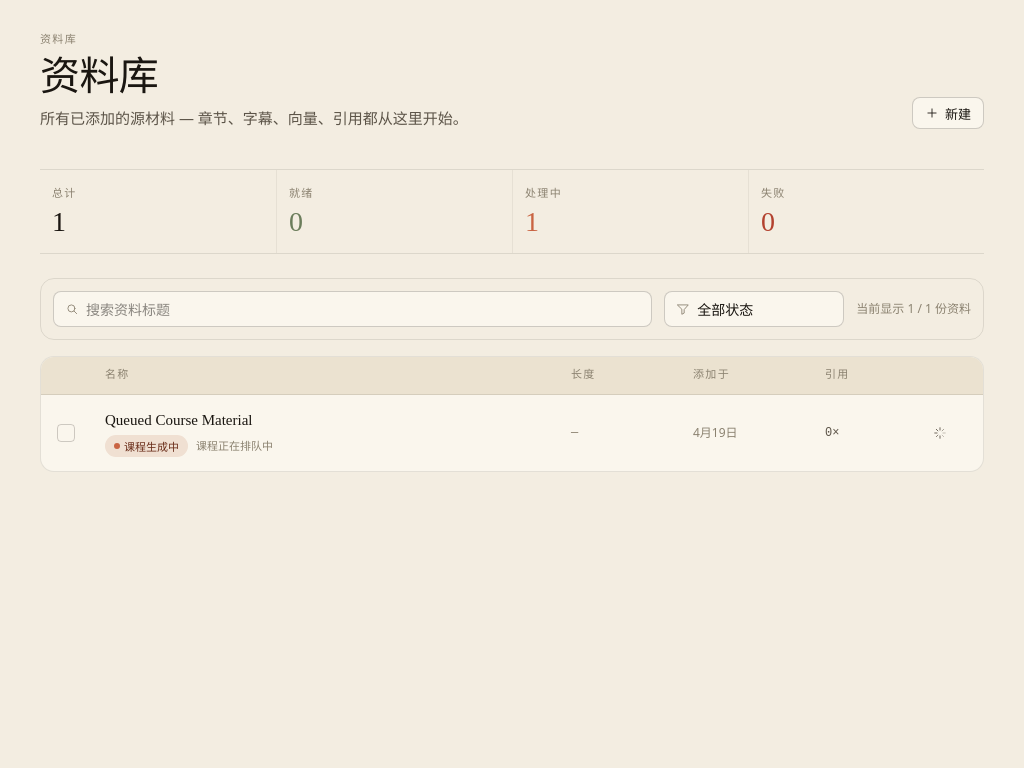
/sources page › lets active course generation be cancelled from the source drawer
Click the text "Queued Course Material" at (179, 420), box 105,412 -> 252,428
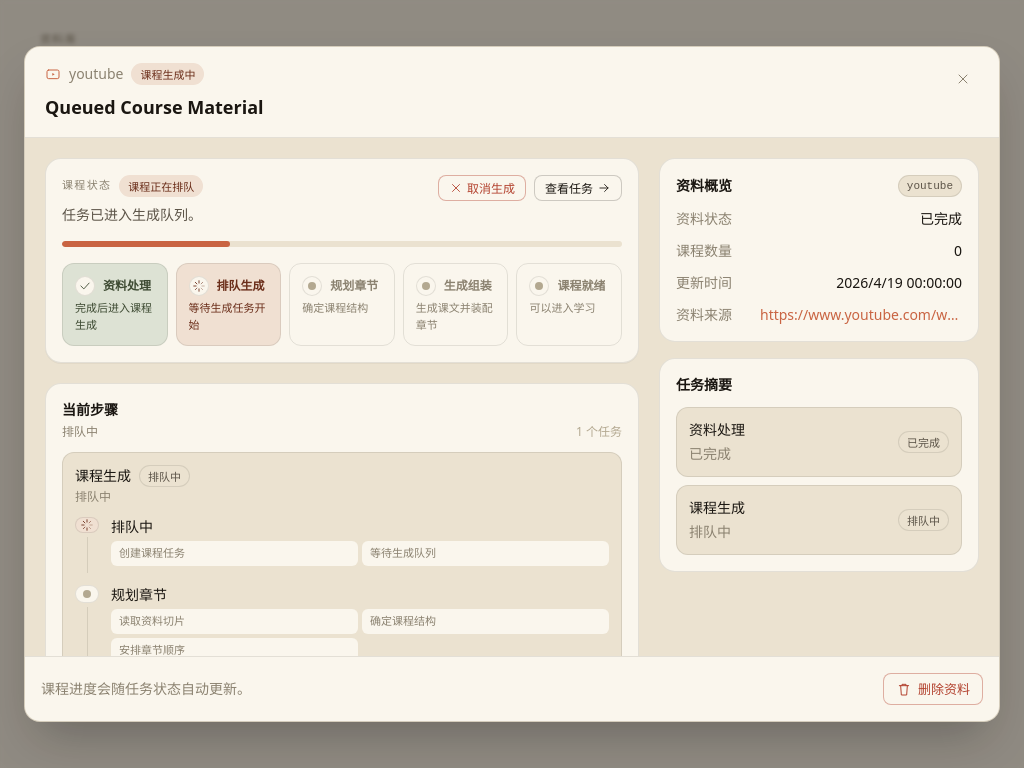
Result: the button with aria-label "取消课程生成" is shown
Result: the text "排队生成" is shown at 217,278 -> 265,294
Result: the text "规划章节" next to "排队生成" is shown at 330,277 -> 378,294
Click the button with aria-label "取消课程生成" at (482, 188), box 438,175 -> 526,201
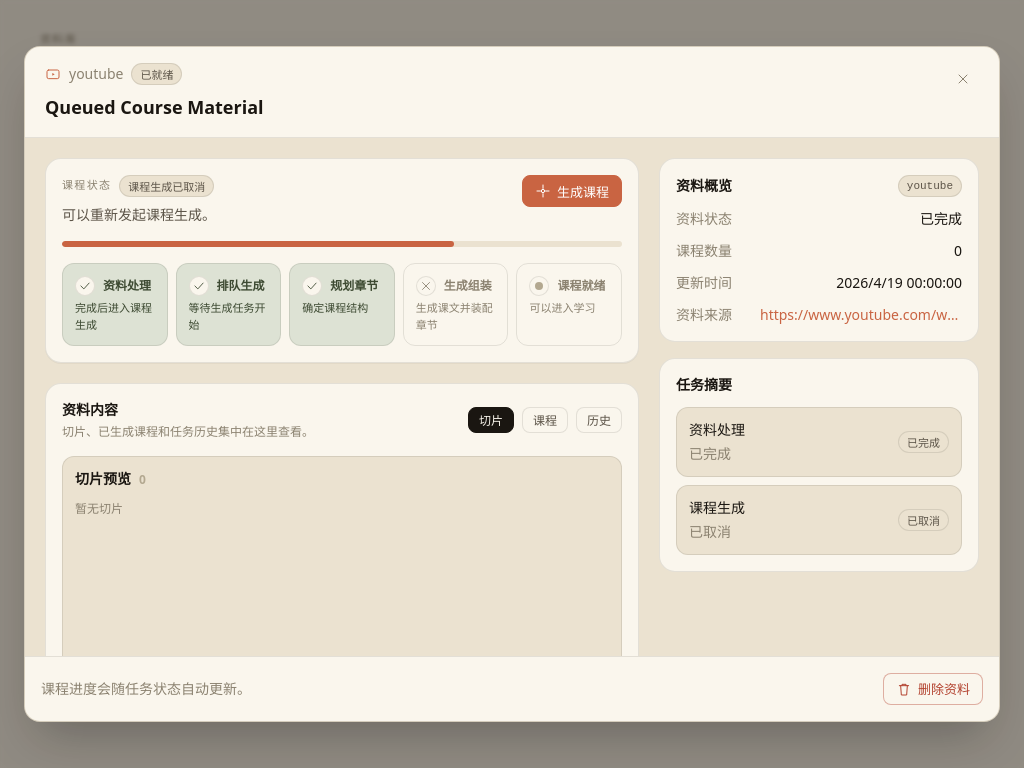
Result: the 2nd text "已取消" is shown at 689,522 -> 731,541
